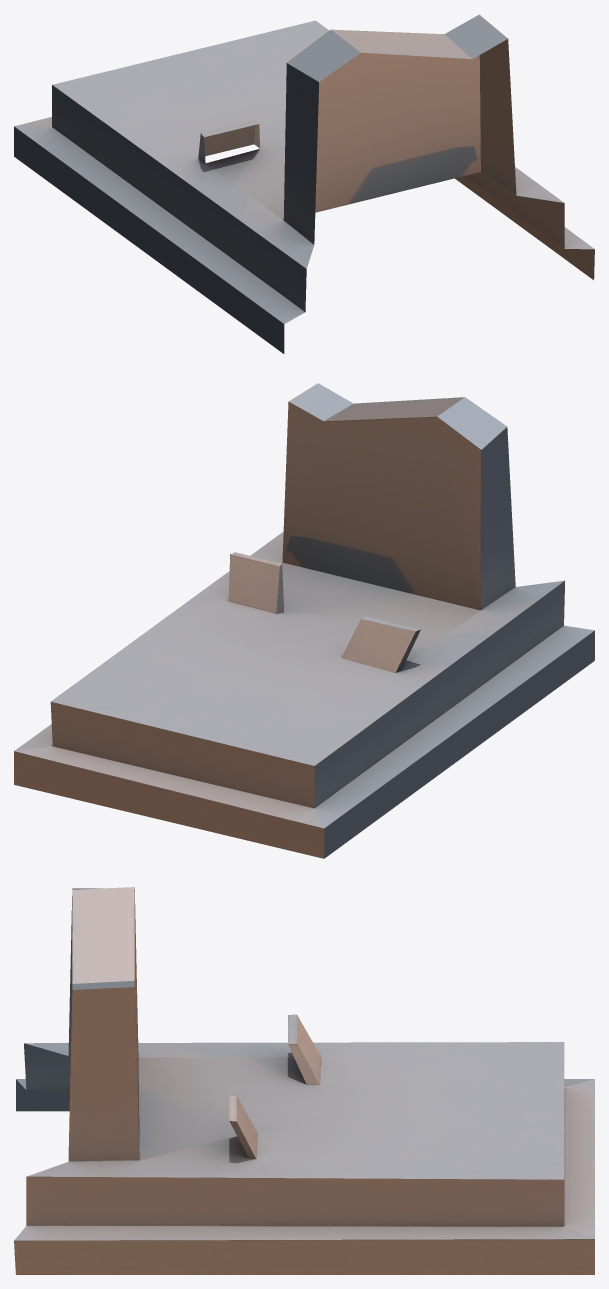
Rendered from 01midtest.glb.
3 views of the same model, one above another, from view 1: azimuth 30°, elevation 25°; view 2: azimuth 150°, elevation 25°; view 3: azimuth 270°, elevation 25° (orthographic). The views are drawn at different scales.
Visible parts, largest first — view 1: Tombe1 mid; view 2: Tombe1 mid; view 3: Tombe1 mid.
Part boxes in pixels (x1,y1,x2,y2): Tombe1 mid: (14, 14, 594, 353); Tombe1 mid: (14, 383, 594, 858); Tombe1 mid: (14, 887, 594, 1274).
Bounding box in the file's own units: 1.41 × 1.14 × 2.14.
1 material, 1 textured.
